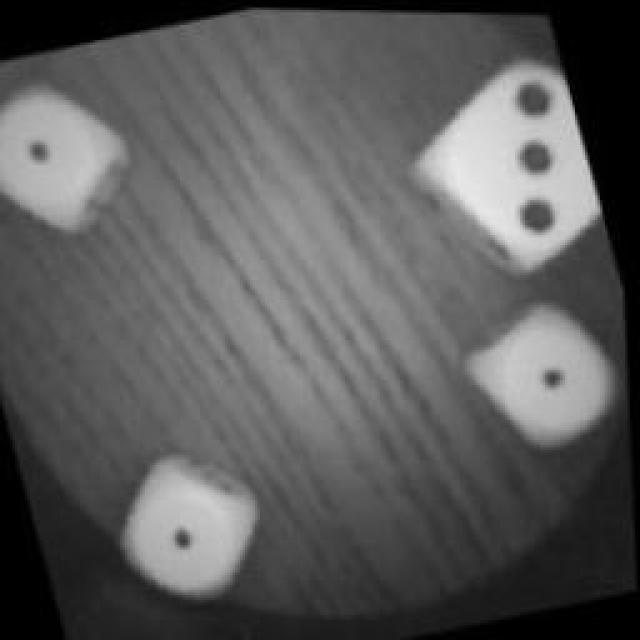dice_1: (451, 284, 631, 458), (101, 445, 276, 615), (0, 60, 142, 247)
dice_3: (390, 38, 615, 282)
